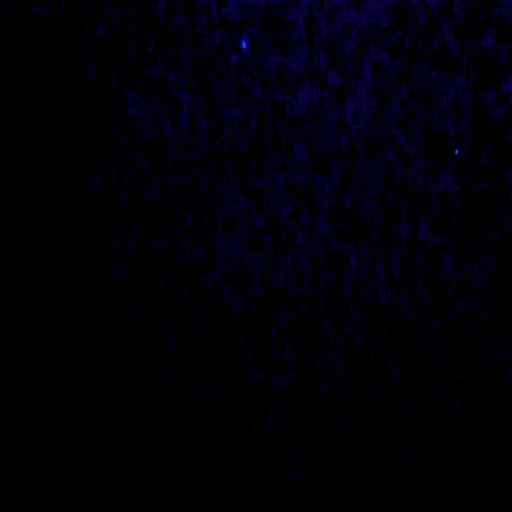object-detection-project: (241, 40, 247, 49)
